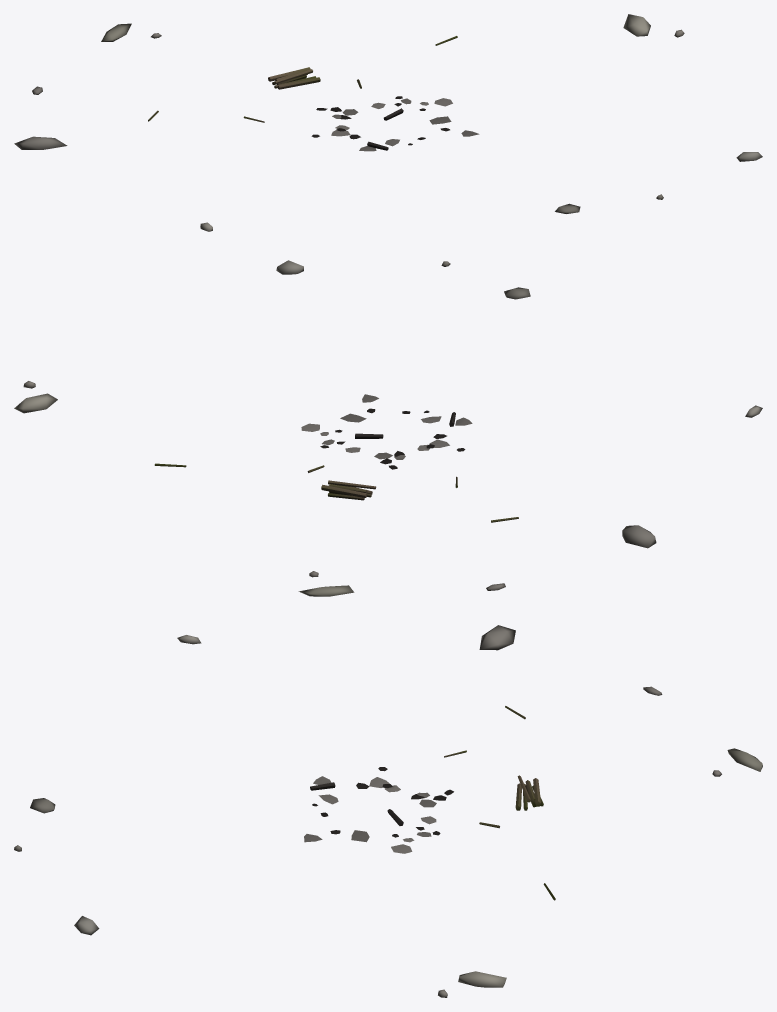
File: camp_ground.glb
3 views of the same model, one above another, from view 1: azimuth 30°, elevation 25°; view 2: azimuth 150°, elevation 25°; view 3: azimuth 270°, elevation 25° (orthographic). The views are drawn at different scales.
Parts seen in each view (by area): view 1: camp_ground; view 2: camp_ground; view 3: camp_ground.
Part boxes in pixels (x1=…): camp_ground: x1=14, y1=14, x2=762, y2=231; camp_ground: x1=14, y1=260, x2=762, y2=596; camp_ground: x1=14, y1=625, x2=762, y2=997.
Bounding box in the file's own units: 9.5 × 0.5606 × 8.74.
